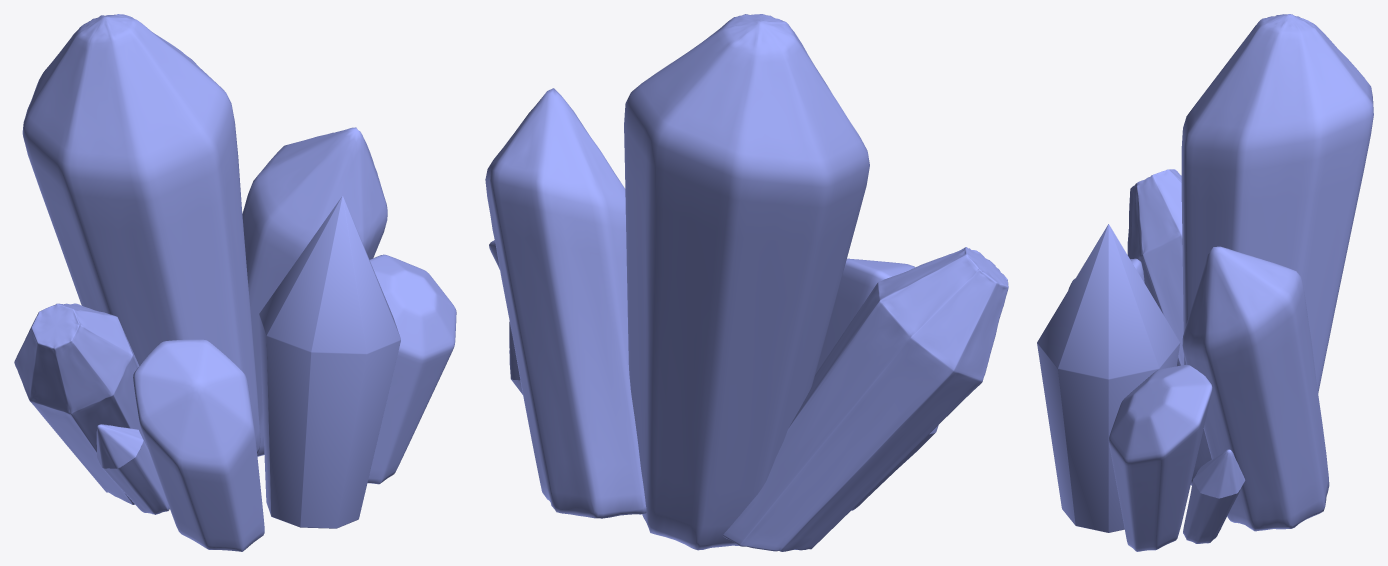
Rendered from Crystal.fbx.
3 renders of one model, left to right at view 1: azimuth 30°, elevation 25°; view 2: azimuth 150°, elevation 25°; view 3: azimuth 270°, elevation 25°, orthographic. The views are drawn at different scales.
Parts seen in each view (by area): view 1: Crystal_OutsideInside.005, Crystal_OutsideInside.000, Crystal_OutsideInside.001, Crystal_OutsideInside.004, Crystal_OutsideInside.007, Crystal_OutsideInside.006, Crystal_Outside.003; view 2: Crystal_OutsideInside.005, Crystal_OutsideInside.004, Crystal_OutsideInside.007, Crystal_OutsideInside.001; view 3: Crystal_OutsideInside.005, Crystal_OutsideInside.004, Crystal_OutsideInside.000, Crystal_OutsideInside.006, Crystal_OutsideInside.007, Crystal_Outside.002.
Boxes of the visible parts, x1,y1,x2,y2 form: Crystal_OutsideInside.005: [22, 14, 260, 453]; Crystal_OutsideInside.000: [259, 196, 400, 528]; Crystal_OutsideInside.001: [133, 339, 264, 551]; Crystal_OutsideInside.004: [242, 127, 387, 456]; Crystal_OutsideInside.007: [14, 303, 147, 504]; Crystal_OutsideInside.006: [367, 254, 456, 484]; Crystal_Outside.003: [96, 424, 169, 514]; Crystal_OutsideInside.005: [624, 14, 869, 550]; Crystal_OutsideInside.004: [485, 88, 646, 518]; Crystal_OutsideInside.007: [723, 247, 1008, 551]; Crystal_OutsideInside.001: [815, 258, 915, 374]; Crystal_OutsideInside.005: [1181, 14, 1373, 485]; Crystal_OutsideInside.004: [1182, 246, 1329, 531]; Crystal_OutsideInside.000: [1037, 224, 1180, 532]; Crystal_OutsideInside.006: [1108, 364, 1212, 551]; Crystal_OutsideInside.007: [1127, 169, 1183, 366]; Crystal_Outside.002: [1183, 449, 1245, 543].
Bounding box in the file's own units: 1030 × 1067 × 730.
